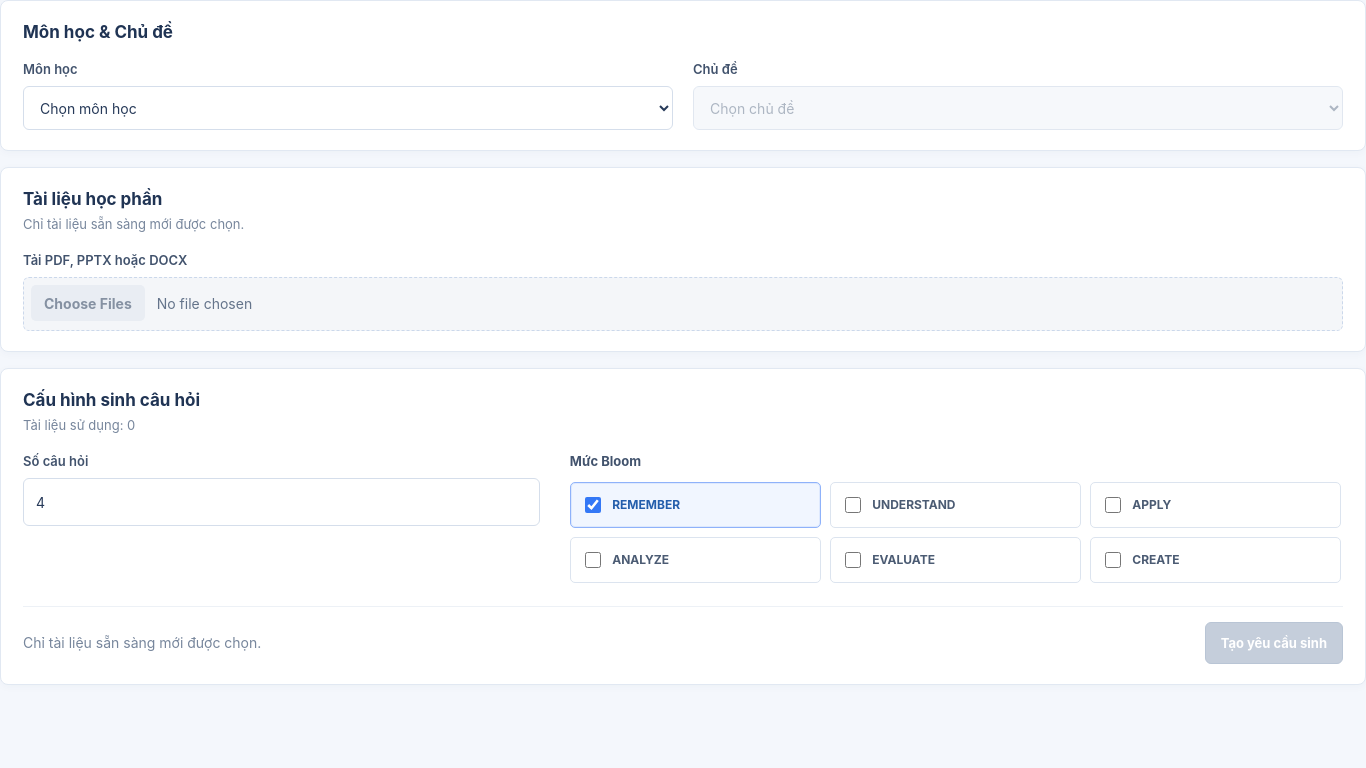
Test: GenerateQuestionPage subject and topic selection › submits one selected Bloom level without generating question rubrics and notifies on completion
Later steps or results of the test are not shown.
Select "SWD392 · Software Development Project" in the dropdown labelled "Môn học": [348, 108] box top-left (23, 86), bottom-right (673, 130)
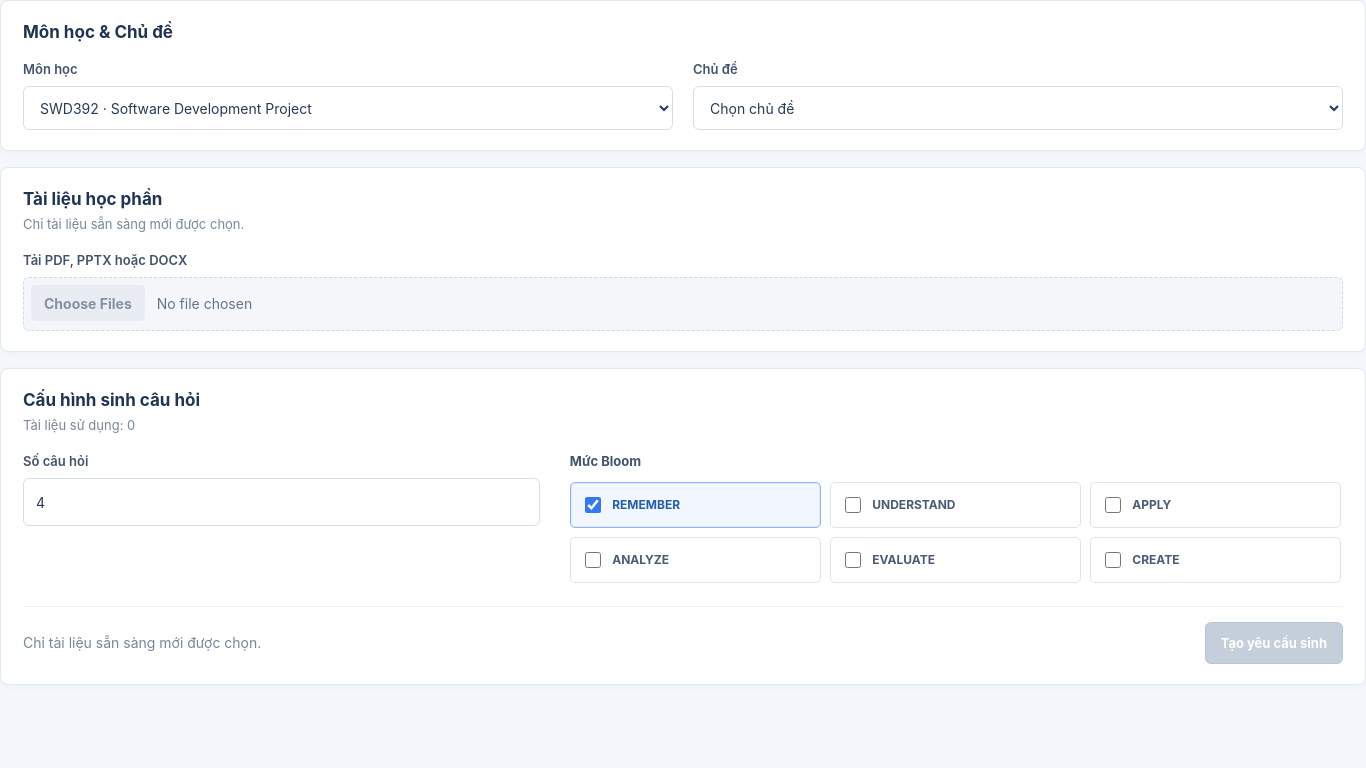
Select "TOPIC-001 · Lập trình Java cơ bản" in the dropdown labelled "Chủ đề": [1018, 108] box top-left (693, 86), bottom-right (1343, 130)
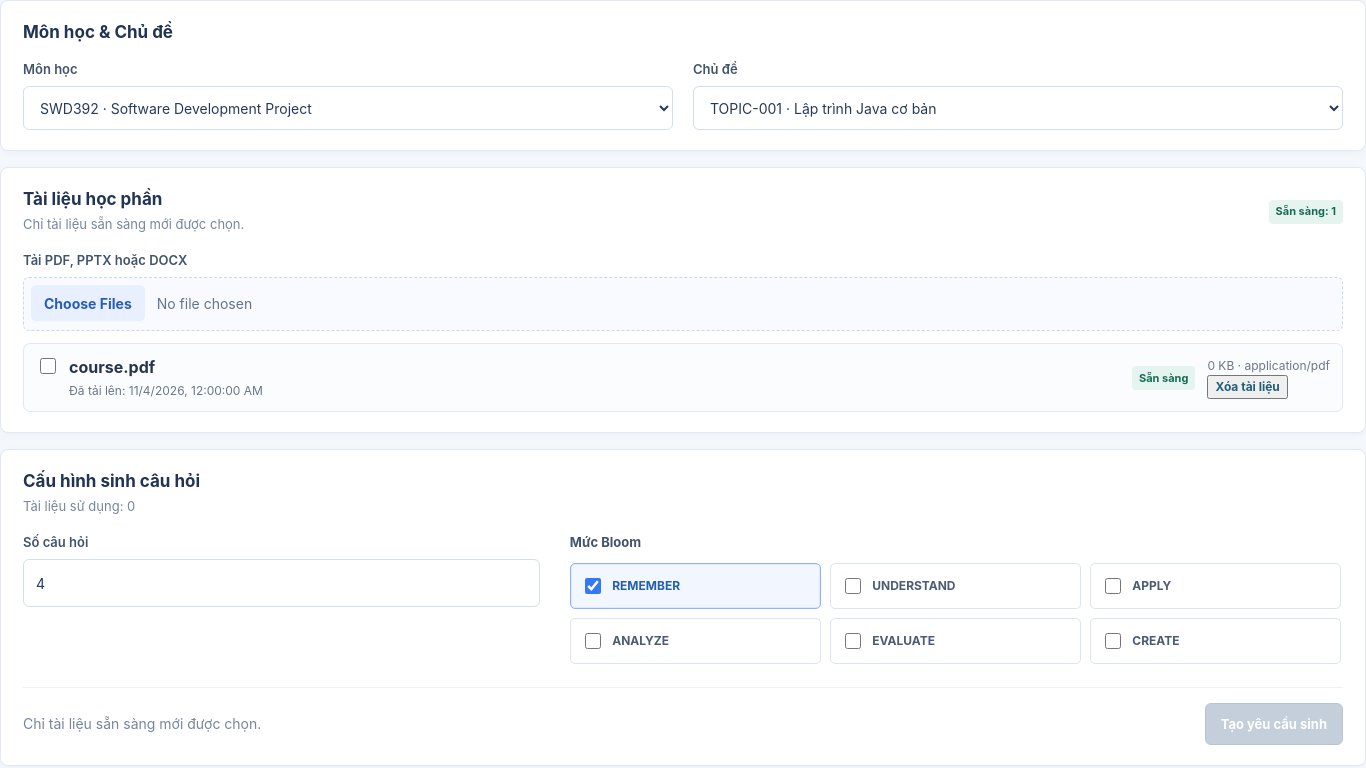
Now the text "course.pdf" is shown, box top-left (69, 357), bottom-right (155, 377)
